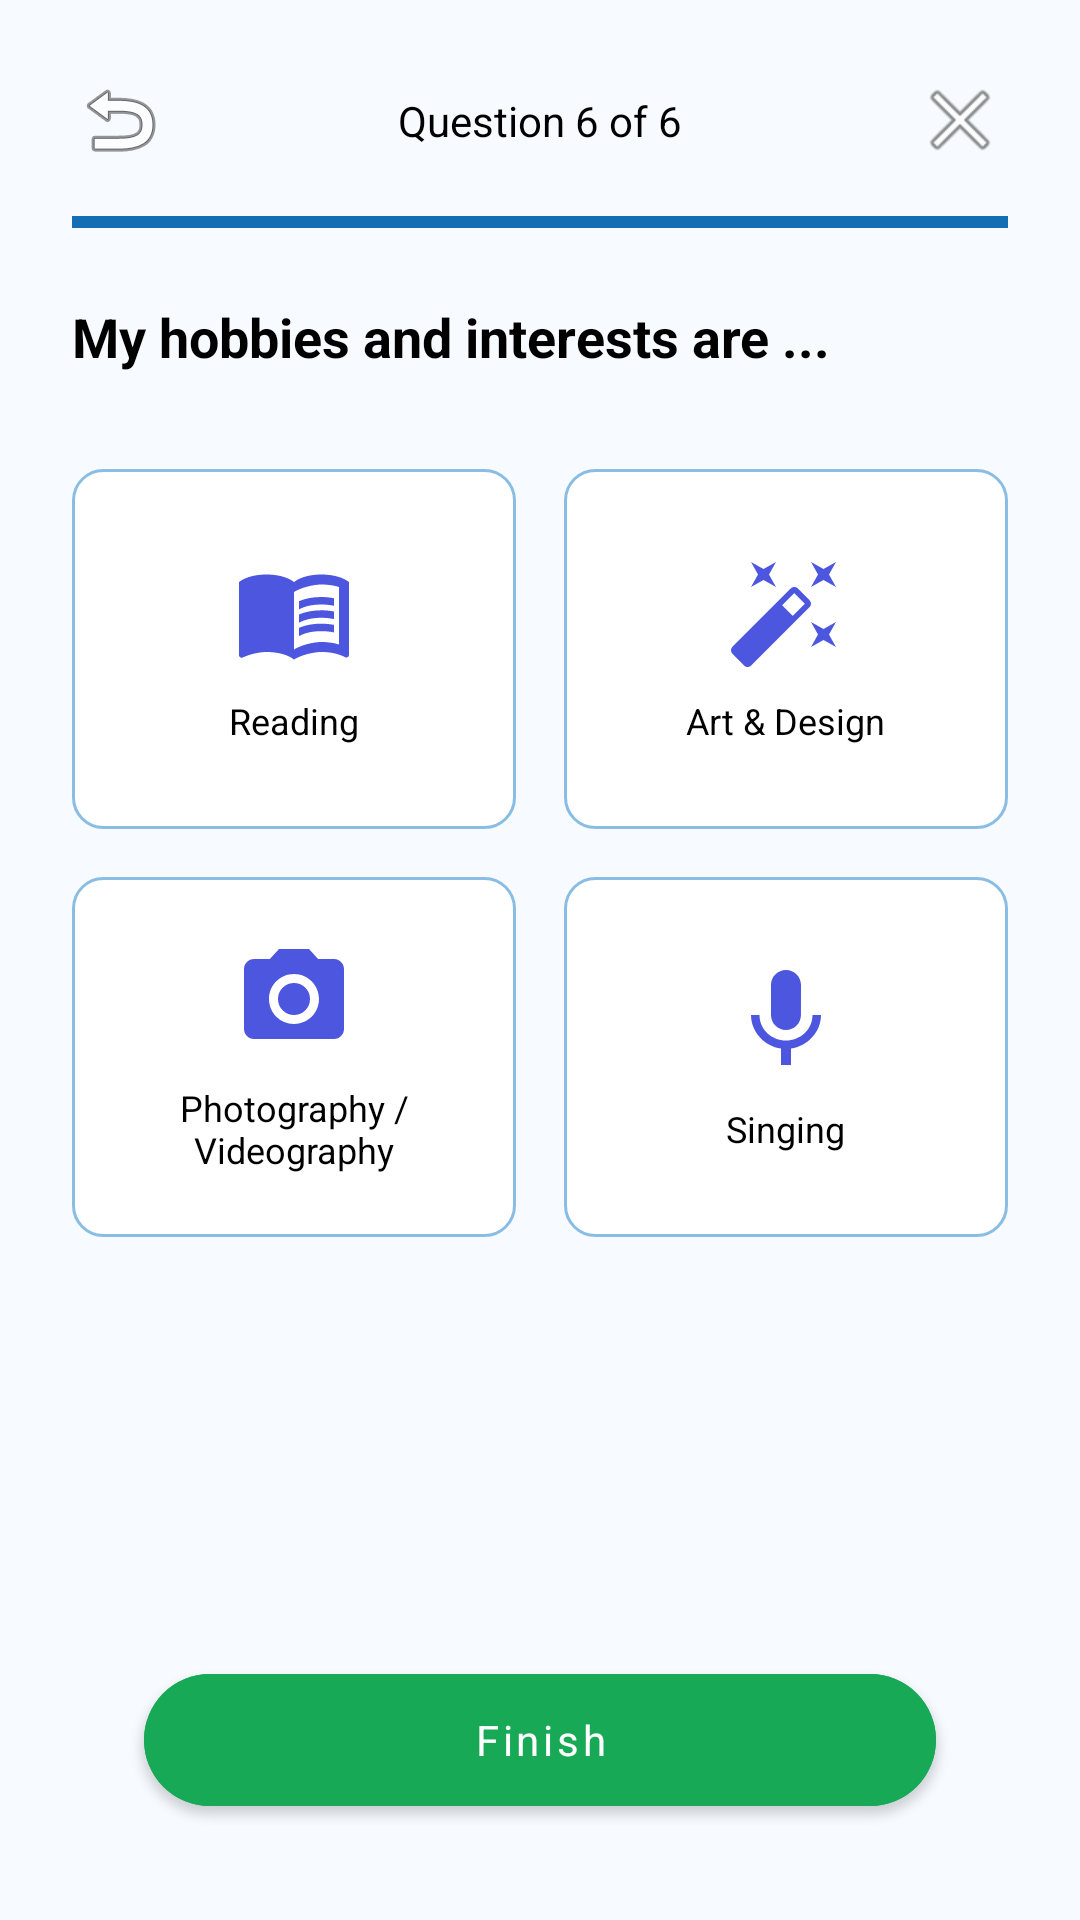

Icons on this 1080*1920 Android screen, each with the point to tap as [x,y]:
auto fix high: [783,614]
Back: [121,120]
book: [294,617]
camera: [294,994]
Close: [960,120]
mic: [786,1017]
